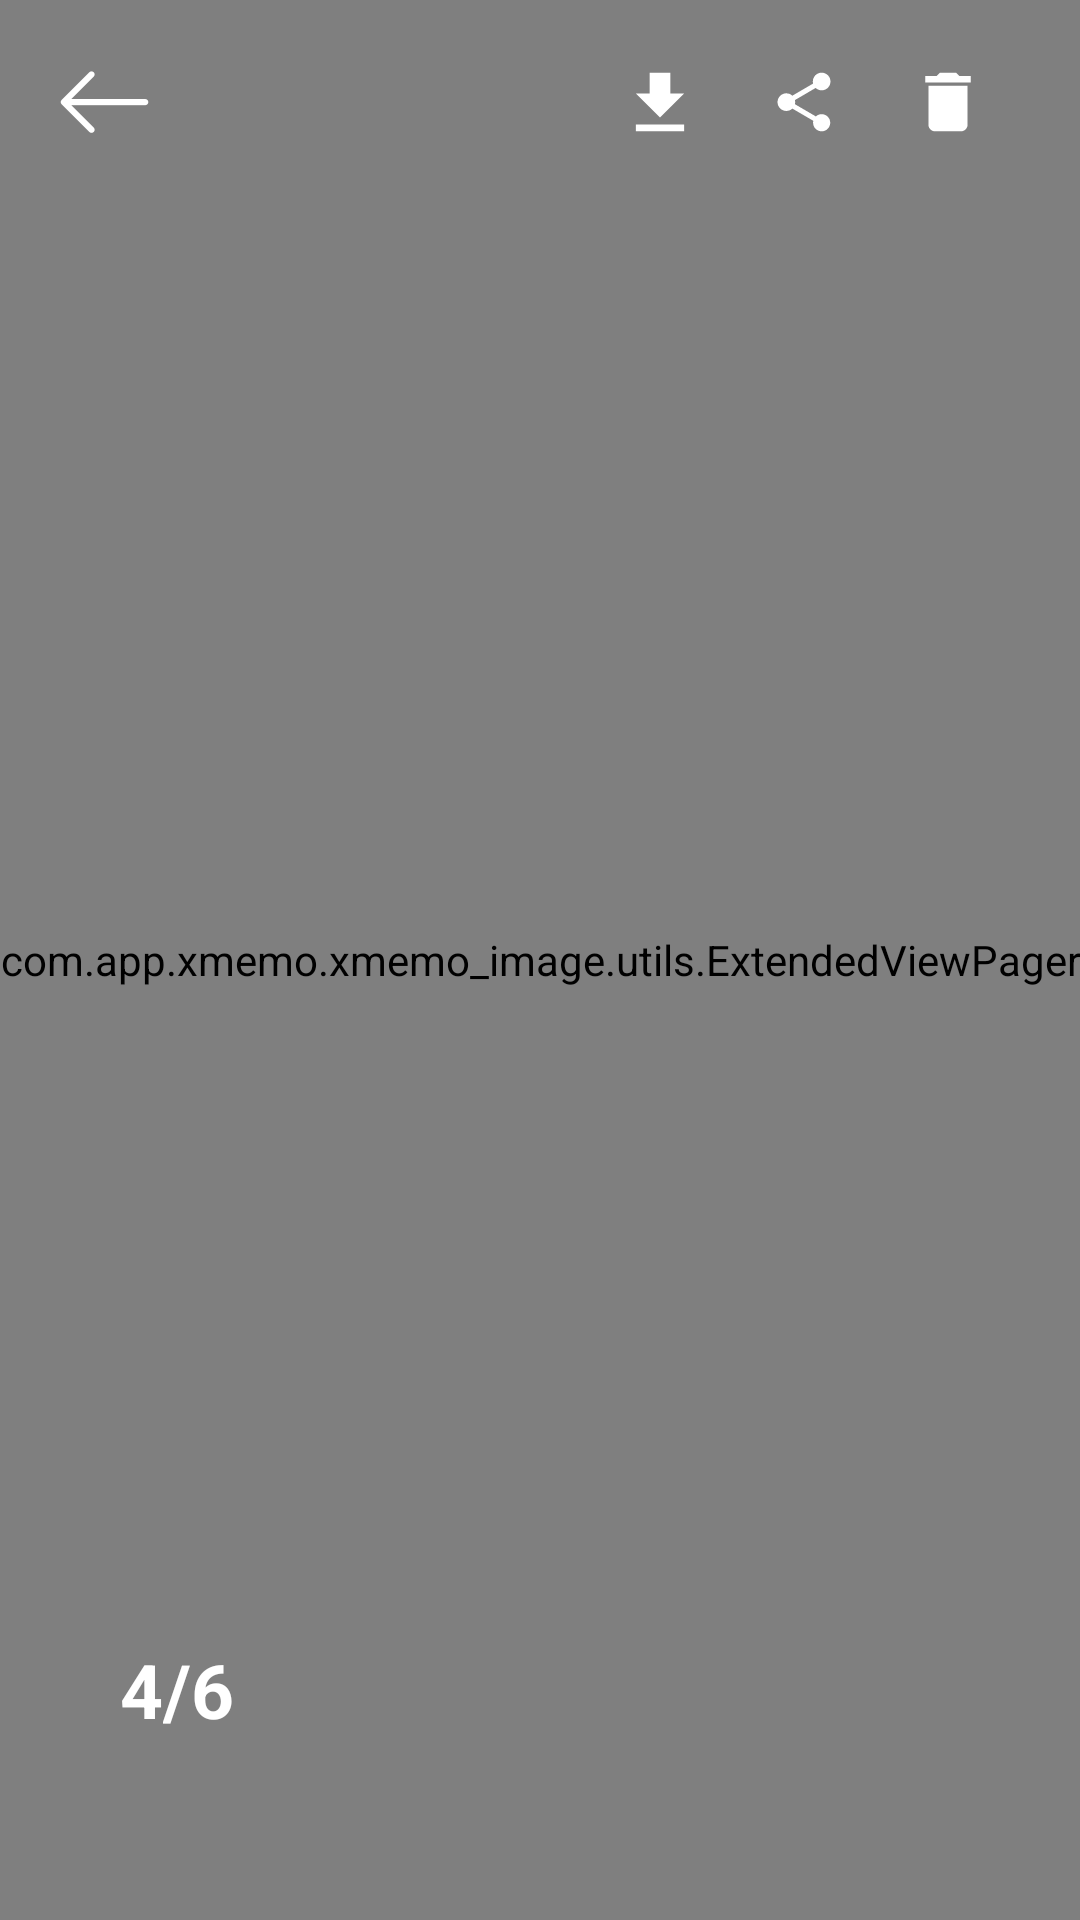

Icons on this 1080w x 1920h Android screen, each with the point to tap as [x,y]:
back arrow: [104,102]
delete: [948,102]
download: [660,102]
share: [804,102]
